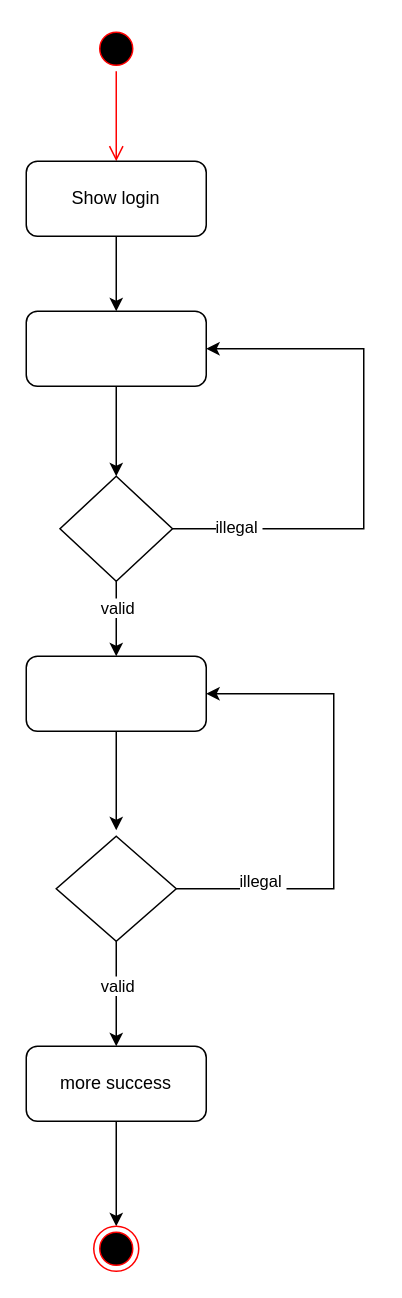
The diagram is 402 pixels wide and 1298 high, and some of its shapes have lost their labels. Each missing label, with the box of its shape:
add the schedule: (25, 655, 206, 731)
Login account: (25, 310, 206, 386)
